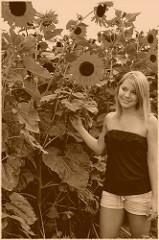sunflower: (69, 52, 103, 85), (2, 0, 36, 29)
